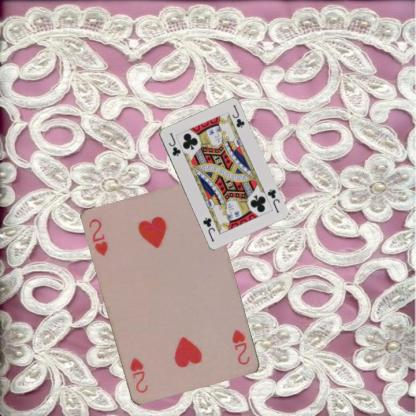2h: (86, 216, 110, 258), (230, 327, 252, 366)
Jc: (264, 186, 280, 214), (166, 130, 181, 157)
